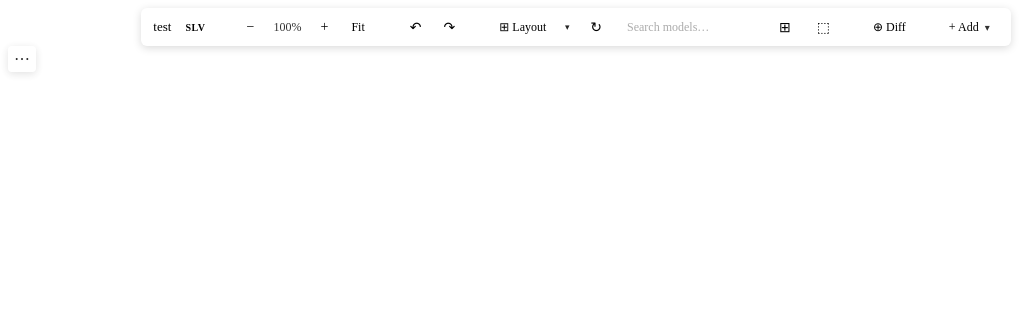
Test: Toolbar layout-dirty button › clears dirty flag after layout runs successfully
Click the button named "layout settings".
click(567, 27)  # box left=557, top=14, right=577, bottom=40
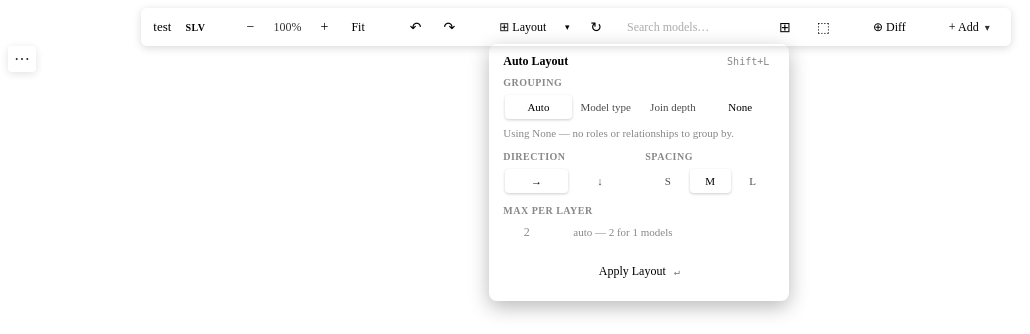
Click the button "↓".
click(600, 181)  # box left=569, top=169, right=631, bottom=193
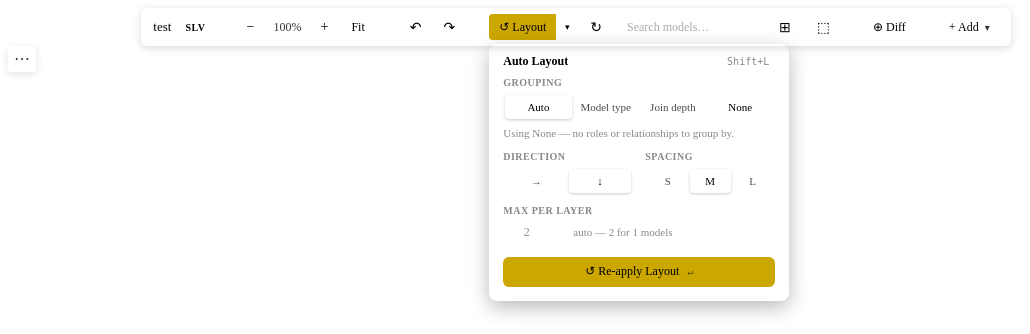
Click the button with aria-label "auto-layout nodes".
click(523, 27)  # box left=489, top=14, right=556, bottom=40
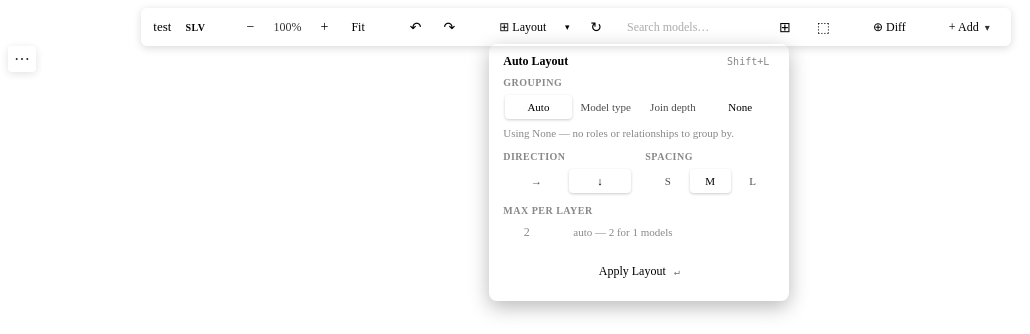
Result: the button with aria-label "auto-layout nodes" shows "⊞" at left=489, top=14, right=556, bottom=40
